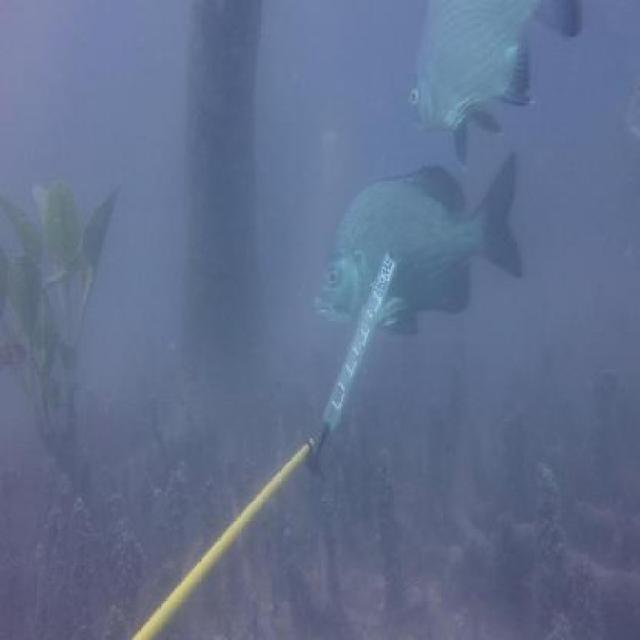acanthopagrus_palmaris: (310, 152, 528, 339), (406, 1, 588, 164)
